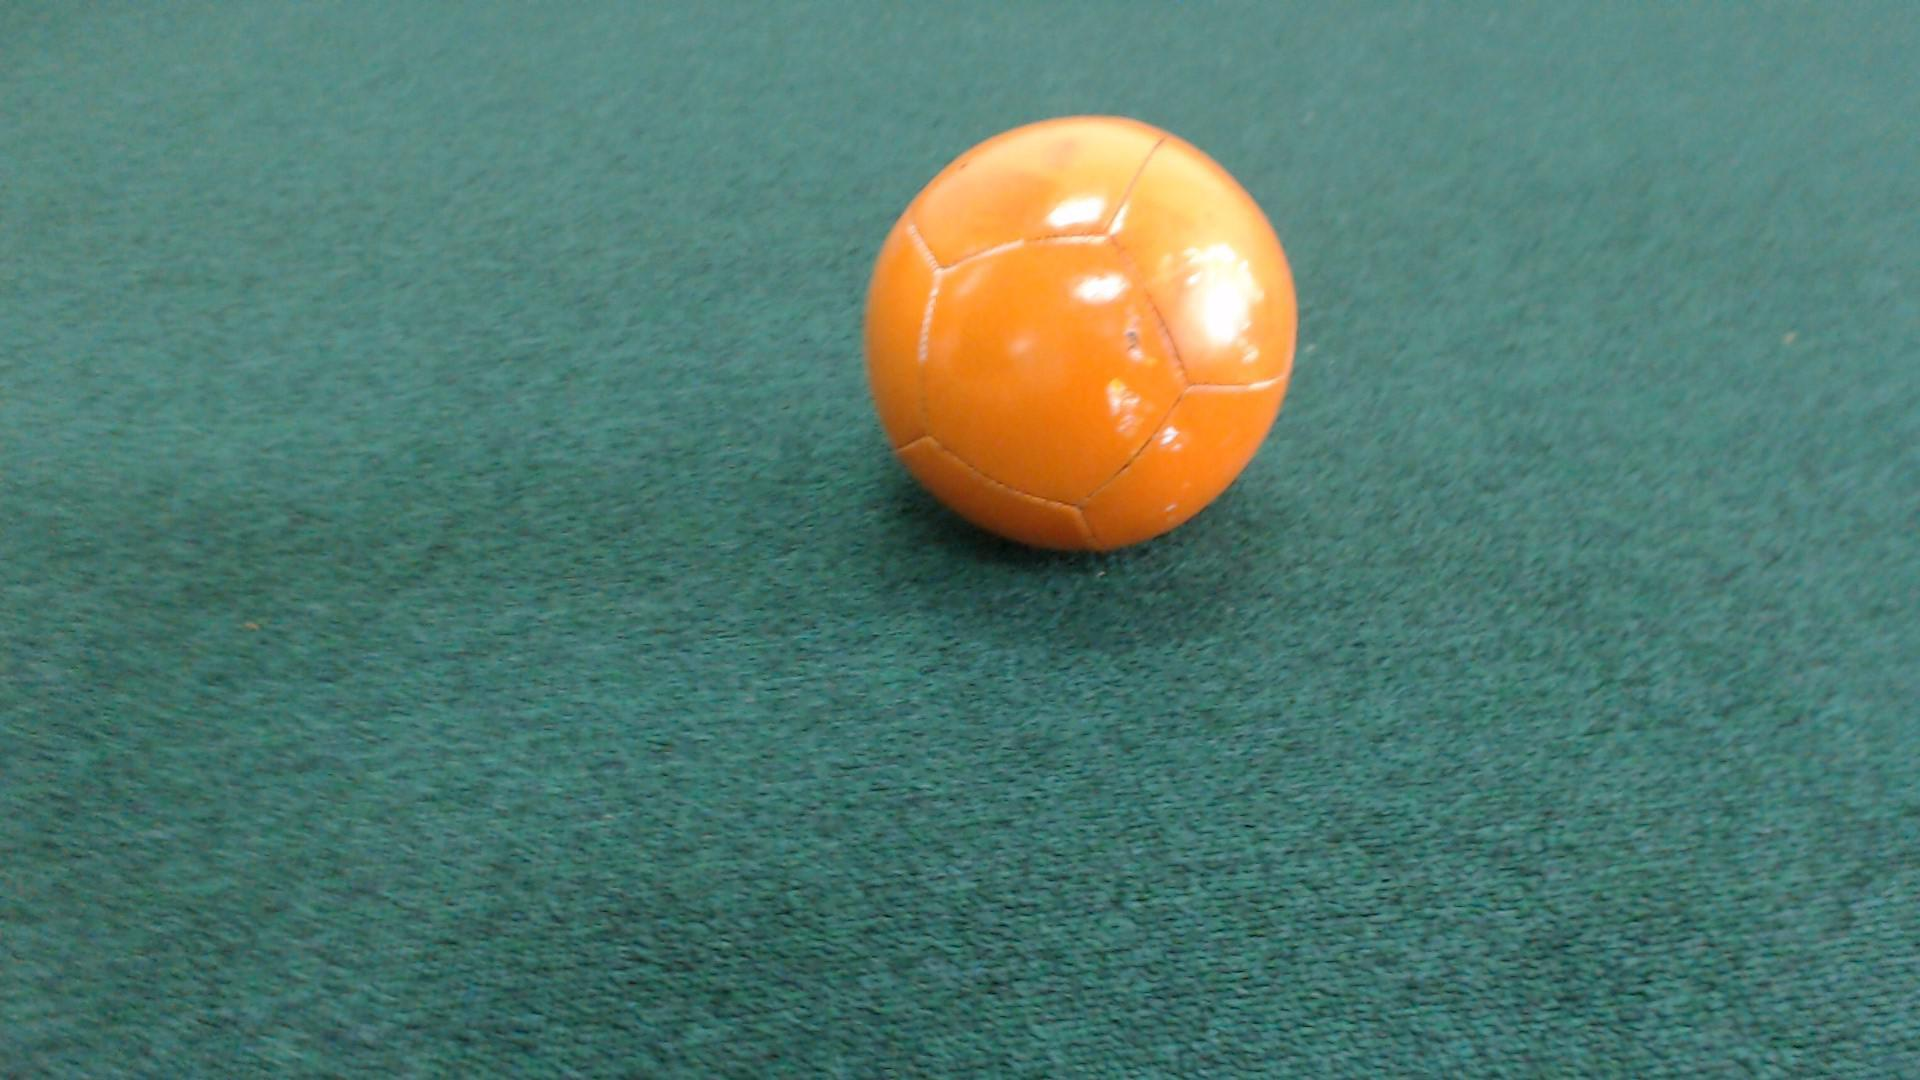bola: (819, 69, 1336, 615)
